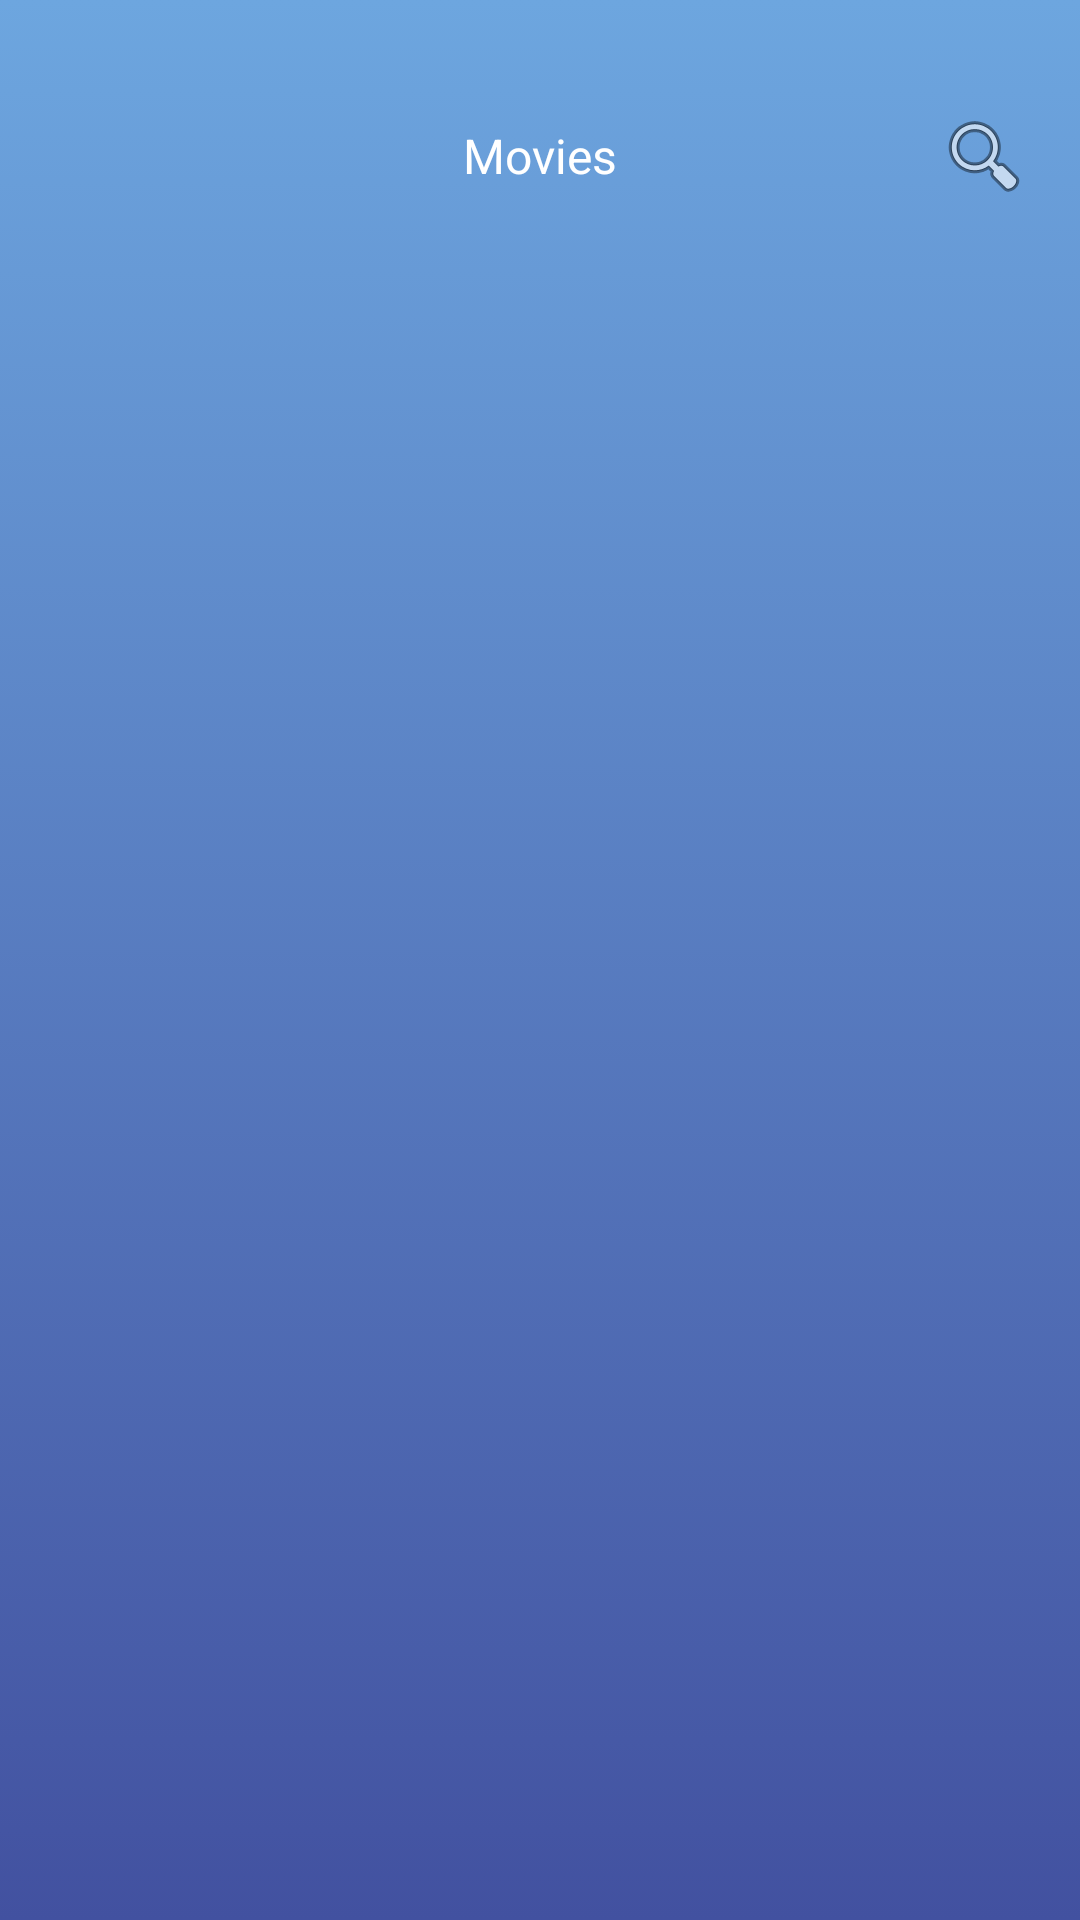

Icon bounding boxes for this 1080*1920 phone screenshot, format (x1, y1, x2, y2):
search: (949, 121, 1019, 192)
